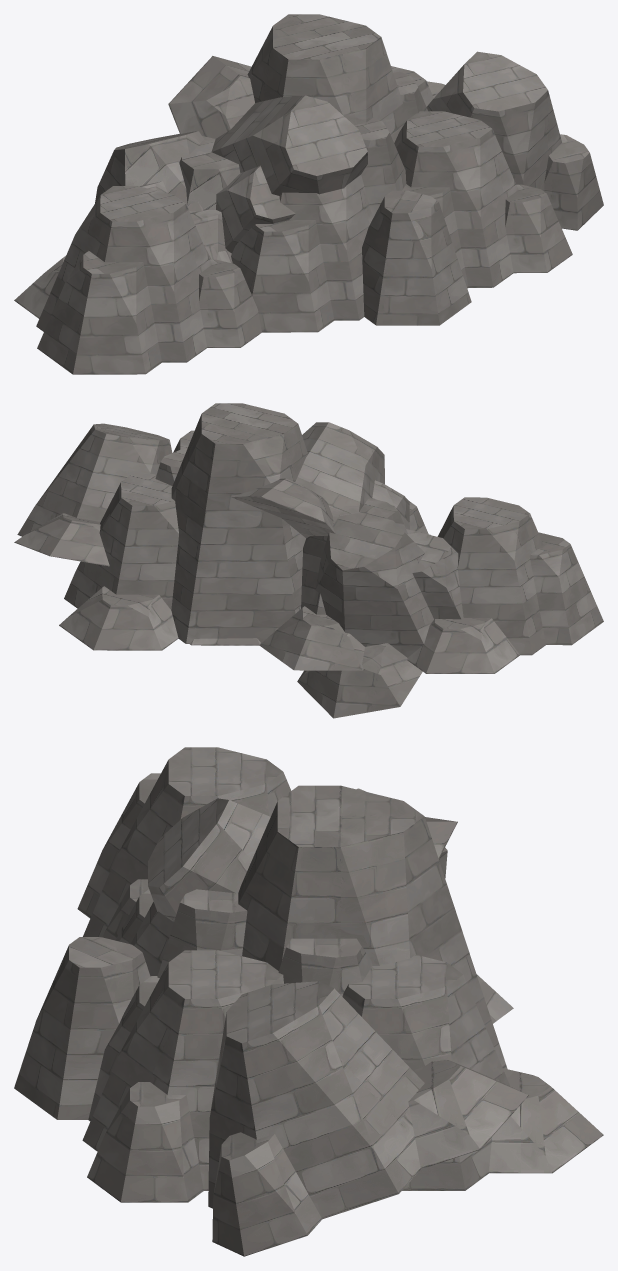
Rendered from Rocks.glb.
3 views of the same model, one above another, from view 1: azimuth 30°, elevation 25°; view 2: azimuth 150°, elevation 25°; view 3: azimuth 270°, elevation 25° (orthographic). The views are drawn at different scales.
Parts seen in each view (by area): view 1: Rocks; view 2: Rocks; view 3: Rocks.
Boxes of the visible parts, x1=… form: Rocks: x1=14, y1=14, x2=603, y2=374; Rocks: x1=14, y1=403, x2=603, y2=718; Rocks: x1=14, y1=747, x2=603, y2=1256.
Bounding box in the file's own units: 3 × 1.24 × 1.97.
Materials: 1 (1 with a texture image).
